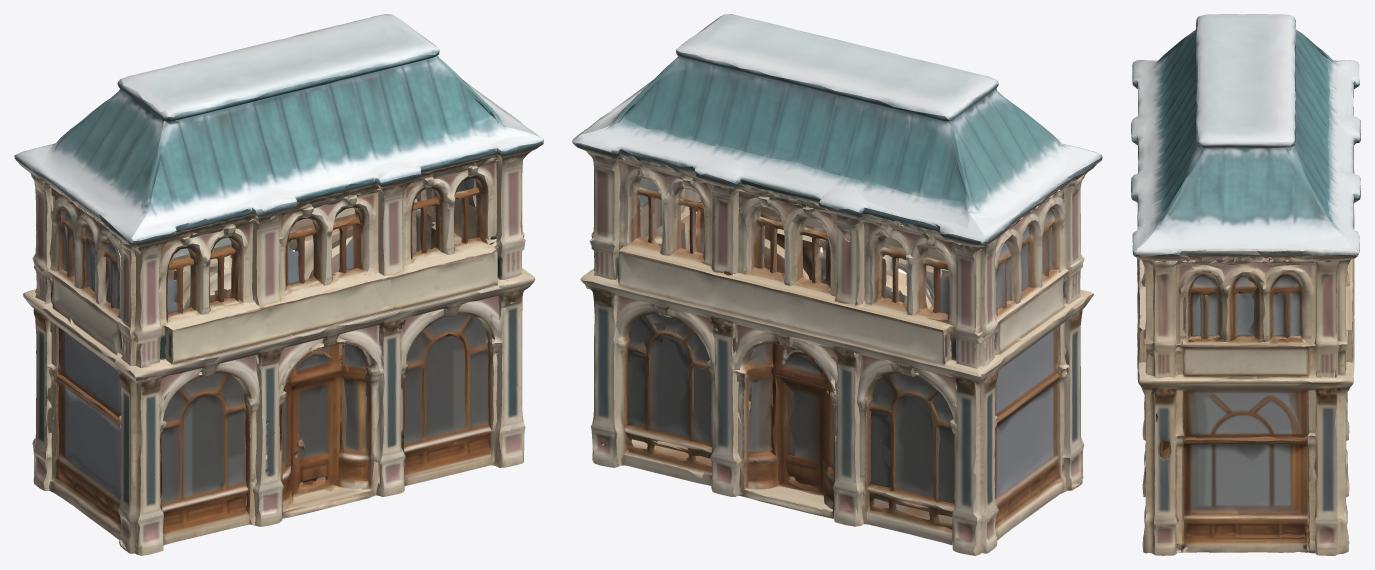
The model's file is unified--shopfront.glb.
3 renders of one model, left to right at view 1: azimuth 30°, elevation 25°; view 2: azimuth 150°, elevation 25°; view 3: azimuth 270°, elevation 25°, orthographic. The views are drawn at different scales.
Parts seen in each view (by area): view 1: shopfront-0; view 2: shopfront-0; view 3: shopfront-0.
Part boxes in pixels (x1=…): shopfront-0: x1=14, y1=14, x2=543, y2=555; shopfront-0: x1=572, y1=14, x2=1102, y2=555; shopfront-0: x1=1131, y1=14, x2=1360, y2=555.
Size of the model in its own units: 1.2 by 1.14 by 0.6064.
1 material, 1 textured.
